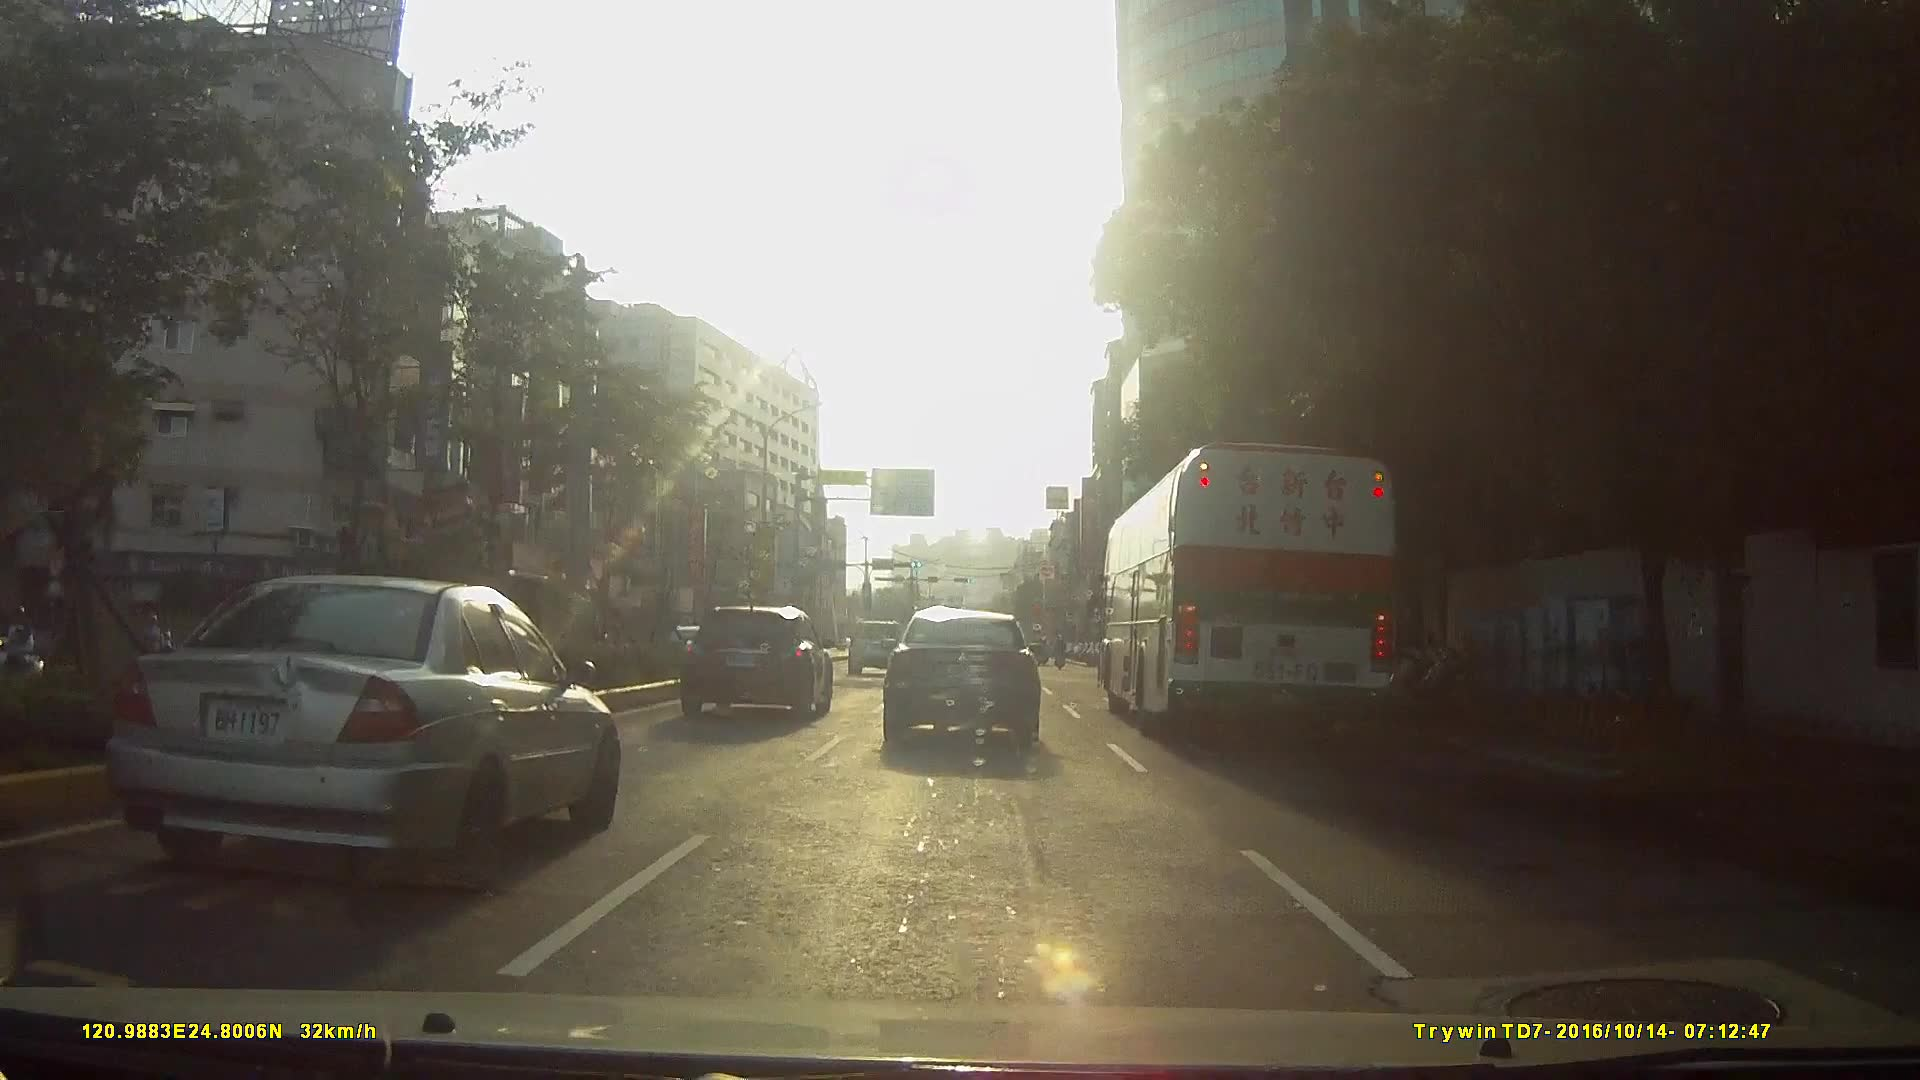rider: (1, 604, 62, 700)
vehicle: (97, 574, 621, 902), (1087, 431, 1417, 738), (880, 609, 1044, 754), (678, 603, 834, 721), (848, 620, 903, 678)
